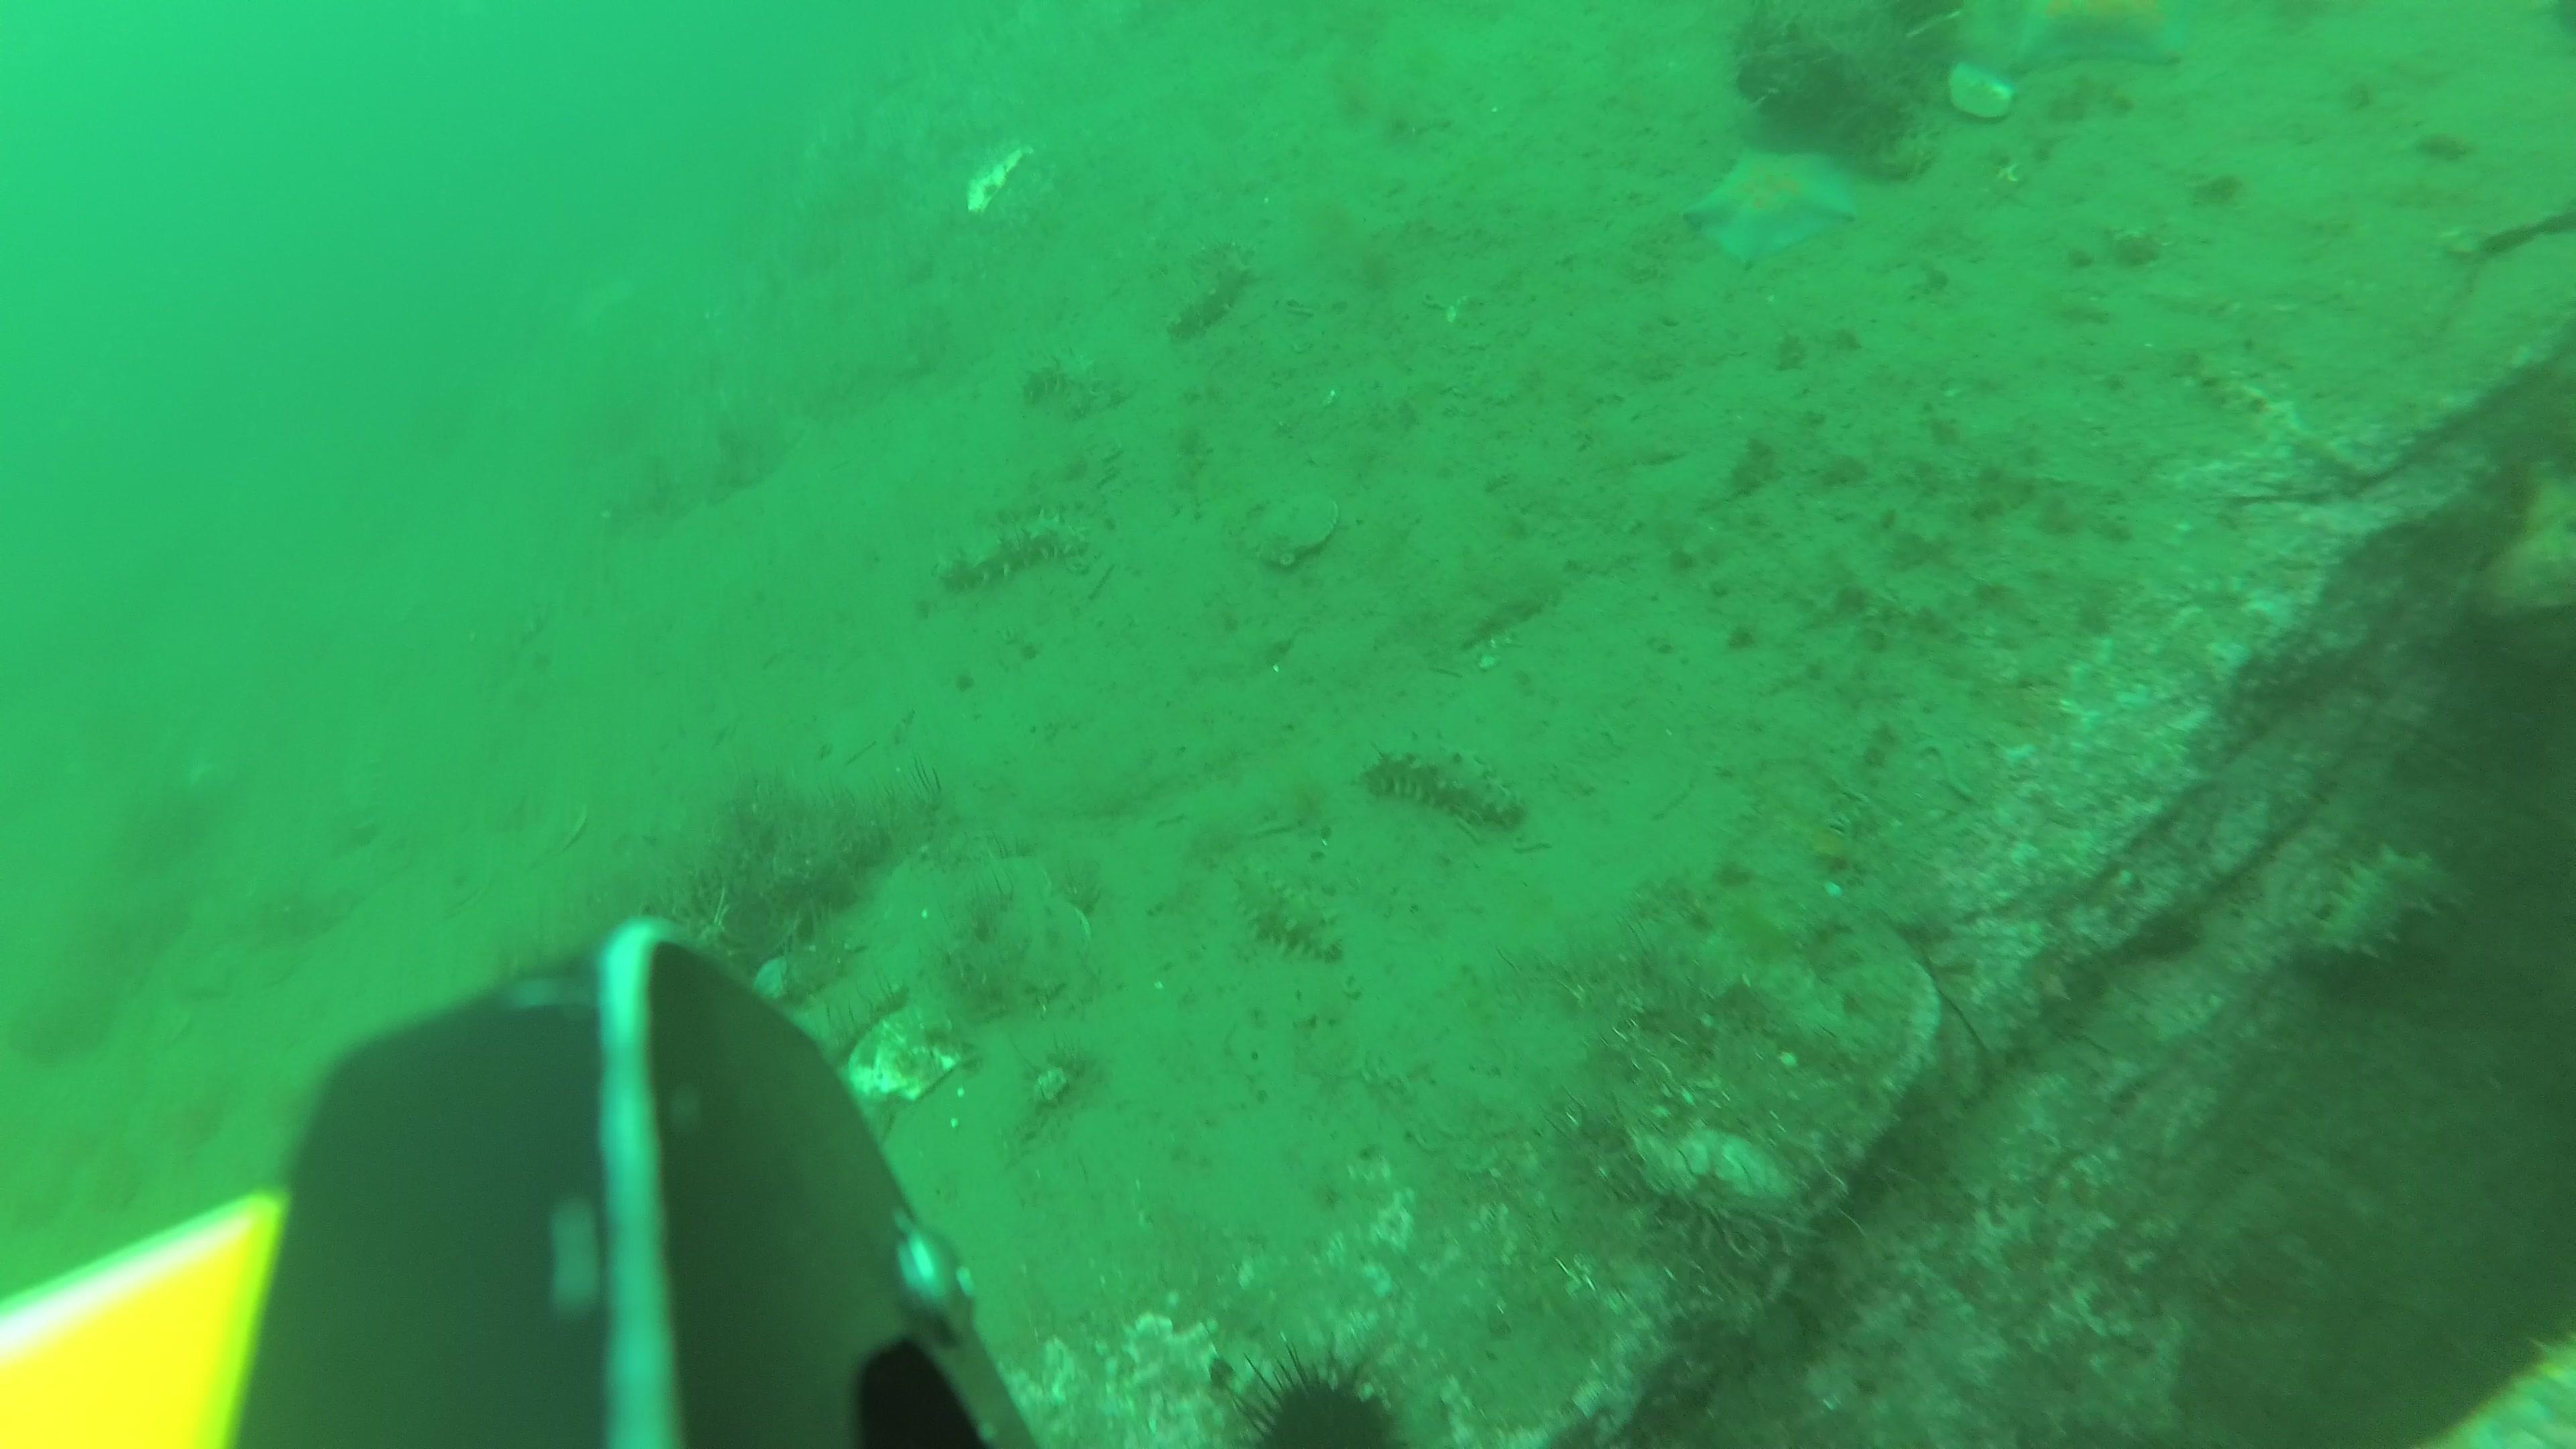echinus: (1228, 1341, 1426, 1449)
holothurian: (2305, 851, 2477, 978), (1361, 736, 1530, 833), (936, 518, 1085, 600), (1240, 867, 1350, 962), (478, 593, 545, 702), (1177, 251, 1247, 333), (1024, 349, 1102, 419)
scallop: (849, 1003, 964, 1106), (987, 899, 1093, 1003), (943, 858, 1049, 957), (1240, 490, 1338, 570), (1950, 64, 2019, 119)
starfish: (1686, 143, 1858, 271), (1967, 0, 2185, 80)
